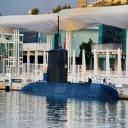submarine: (19, 50, 122, 101)
